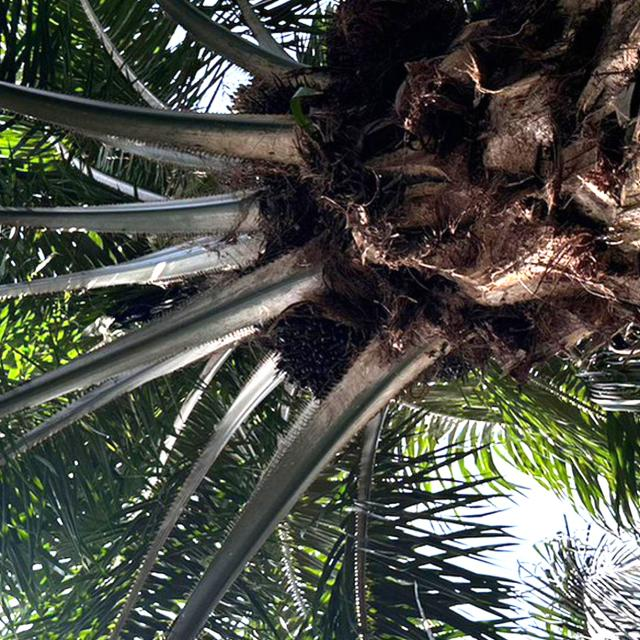unripe: (259, 301, 366, 401)
